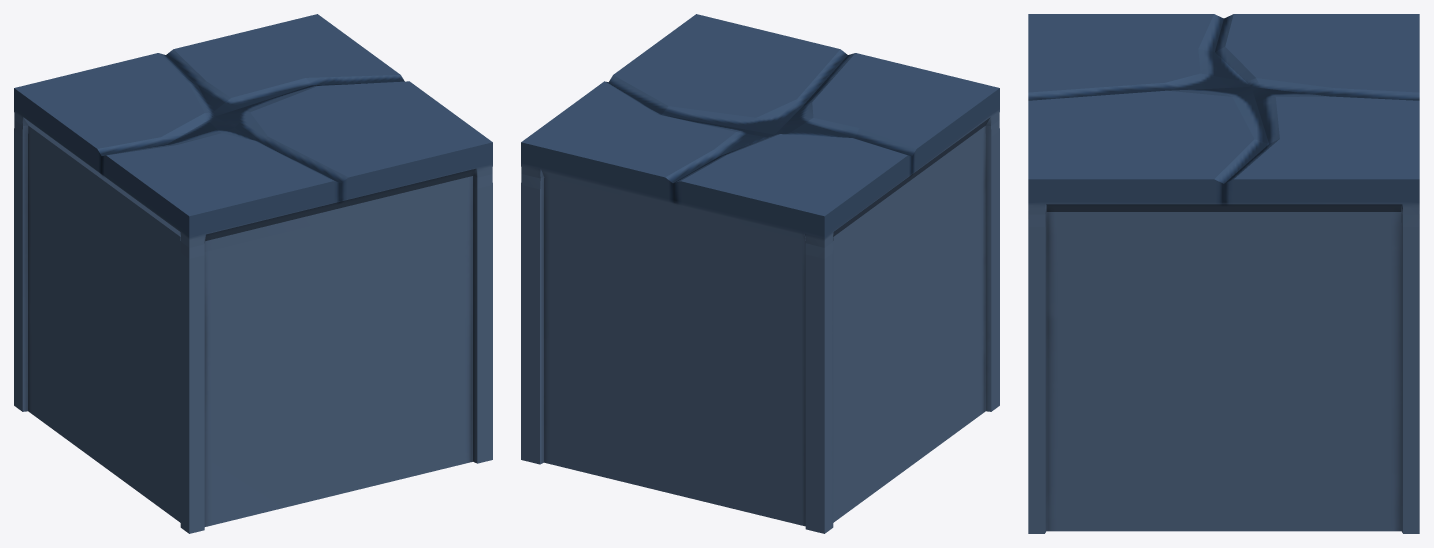
File: TileV1_20220503.obj
3 views of the same model, side by side, from view 1: azimuth 30°, elevation 25°; view 2: azimuth 150°, elevation 25°; view 3: azimuth 270°, elevation 25° (orthographic). The views are drawn at different scales.
Visible parts, largest first — view 1: pCube1; view 2: pCube1; view 3: pCube1.
Part boxes in pixels (bbox=[...]): pCube1: bbox=[14, 14, 492, 533]; pCube1: bbox=[521, 14, 999, 533]; pCube1: bbox=[1028, 14, 1419, 533].
Size of the model in its own units: 3 by 3 by 3.
